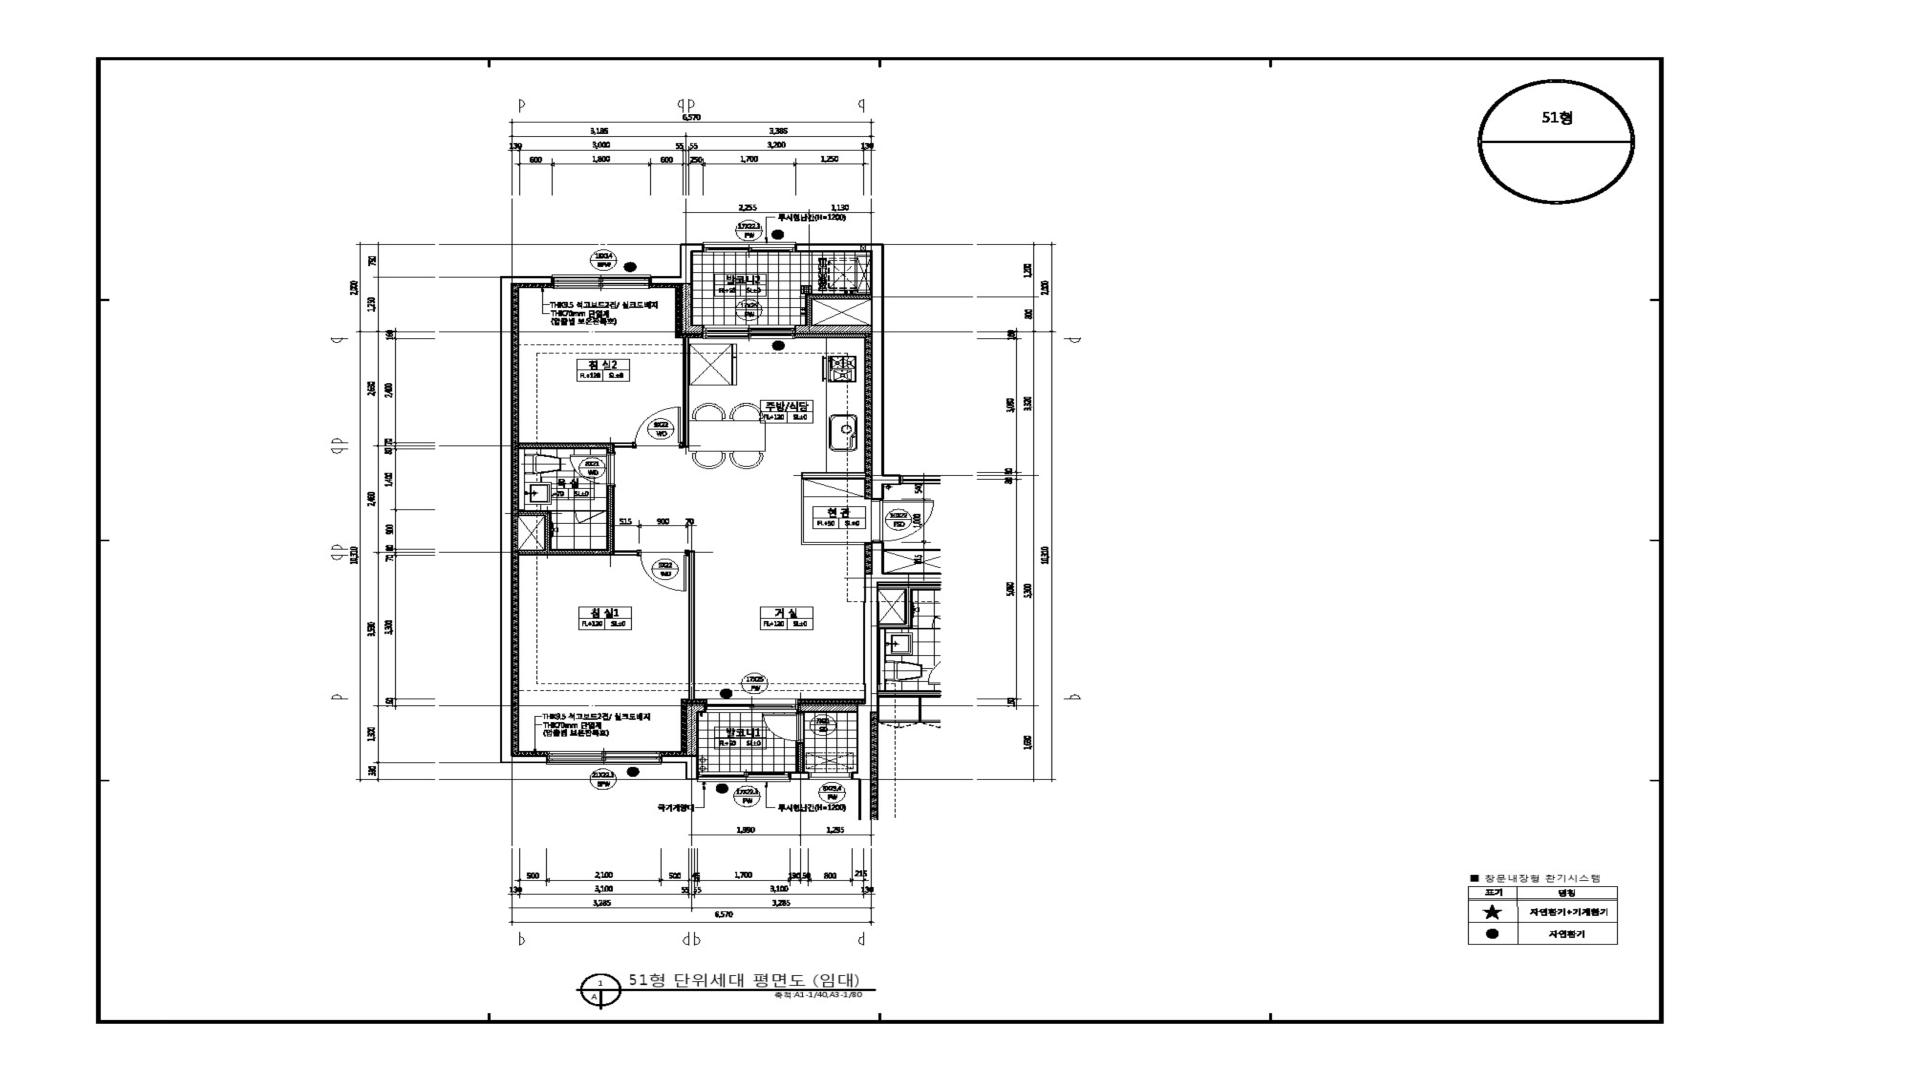door: (870, 500, 935, 542), (637, 550, 688, 592), (632, 406, 683, 447), (570, 452, 615, 485), (762, 712, 804, 742)
wall: (500, 276, 553, 764), (796, 244, 885, 500), (517, 485, 637, 555), (851, 542, 884, 779), (795, 294, 870, 335), (650, 243, 703, 285), (680, 285, 703, 335), (517, 443, 632, 452), (686, 703, 705, 756), (688, 550, 695, 700), (662, 756, 699, 779), (683, 338, 690, 447), (798, 703, 857, 713), (800, 472, 866, 480), (795, 742, 806, 771), (790, 771, 810, 779)
window: (546, 752, 662, 765), (553, 274, 650, 289), (703, 324, 795, 339), (705, 699, 798, 712), (703, 241, 796, 252), (699, 771, 790, 782), (810, 771, 852, 779)
